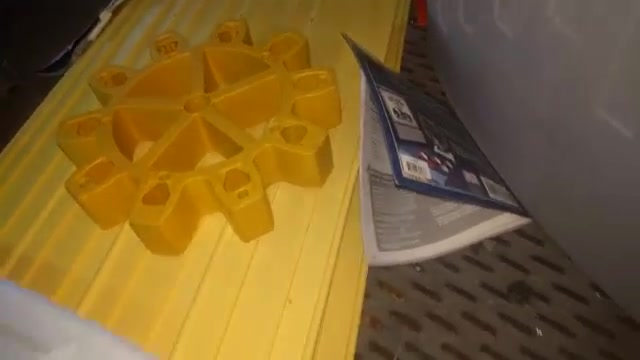gear: (50, 17, 347, 268)
